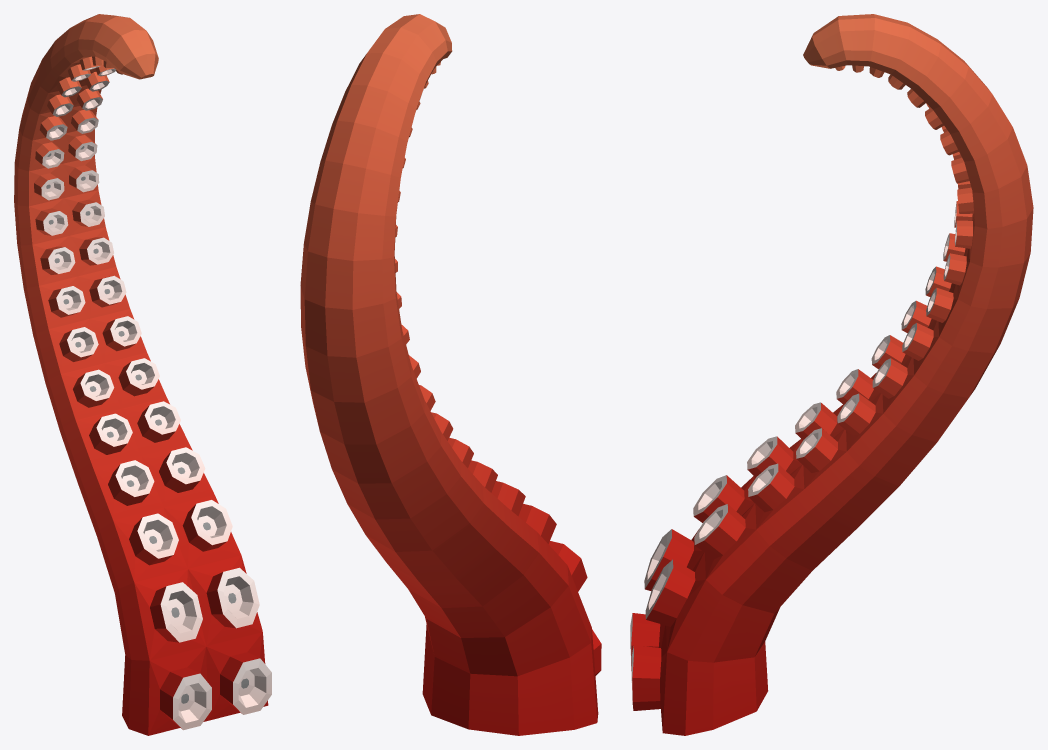
The model's file is tentacles-3.glb.
3 renders of one model, left to right at view 1: azimuth 30°, elevation 25°; view 2: azimuth 150°, elevation 25°; view 3: azimuth 270°, elevation 25°, orthographic. The views are drawn at different scales.
Parts seen in each view (by area): view 1: tentacles 3; view 2: tentacles 3; view 3: tentacles 3.
Part boxes in pixels (x1=…): tentacles 3: x1=14, y1=14, x2=271, y2=735; tentacles 3: x1=300, y1=14, x2=601, y2=735; tentacles 3: x1=630, y1=14, x2=1033, y2=735.
Size of the model in its own units: 3.24 by 14.03 by 7.47.
Materials: 1 (1 with a texture image).
